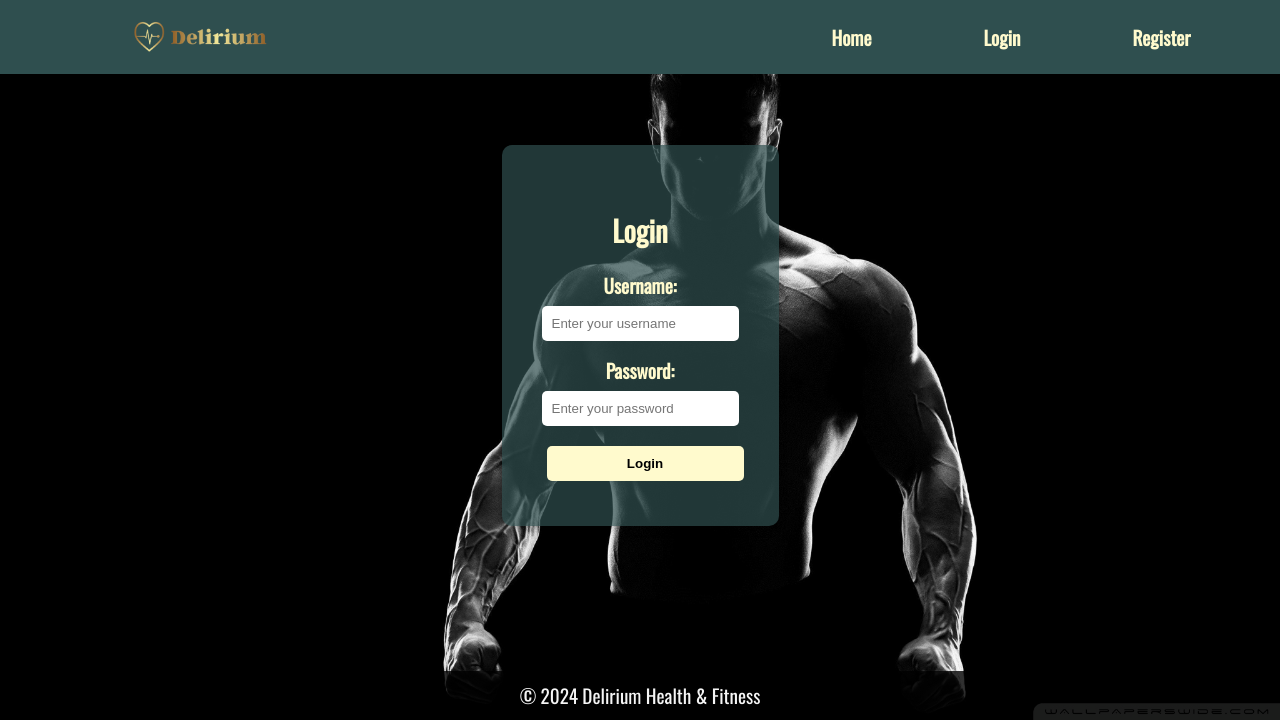
Test case: Login Page › should show error message on incorrect credentials
Step 1. Type "wronguser" into the field with placeholder "Enter your username" → (641, 324), box [542,306,739,341]
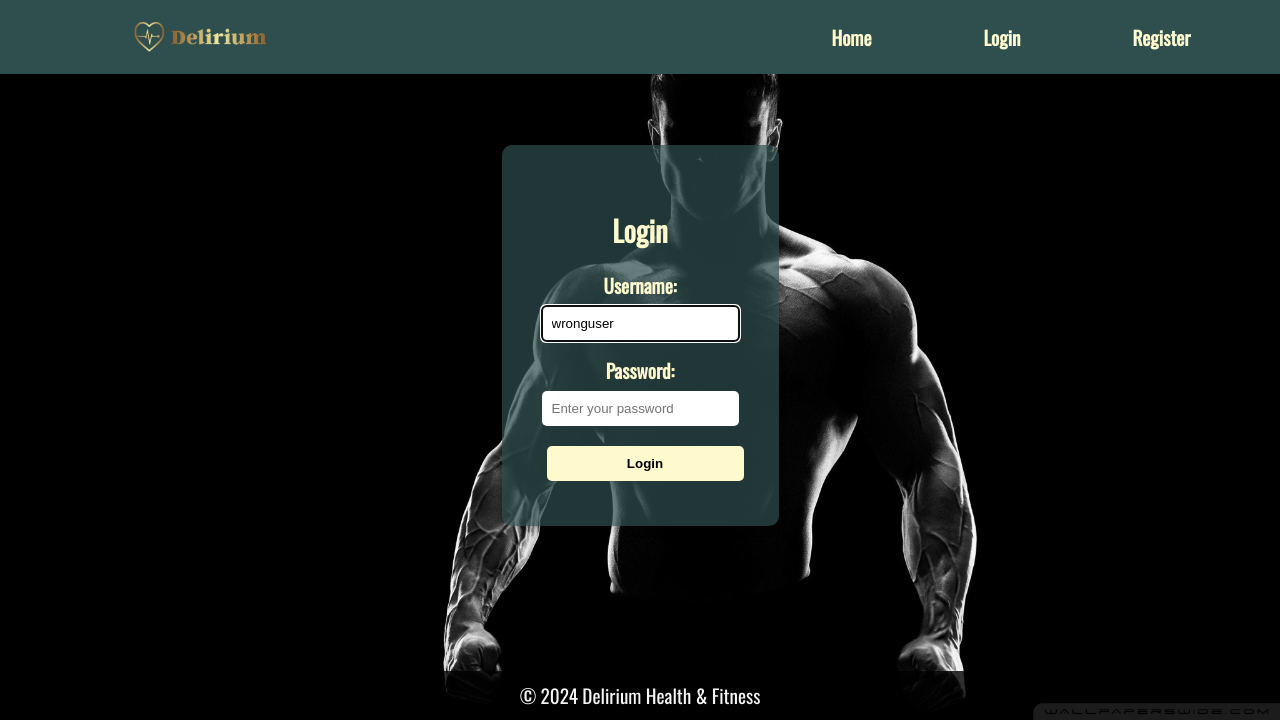
Step 2. Type "wrongpassword" into the password field with placeholder "Enter your password" → (641, 409), box [542,391,739,426]
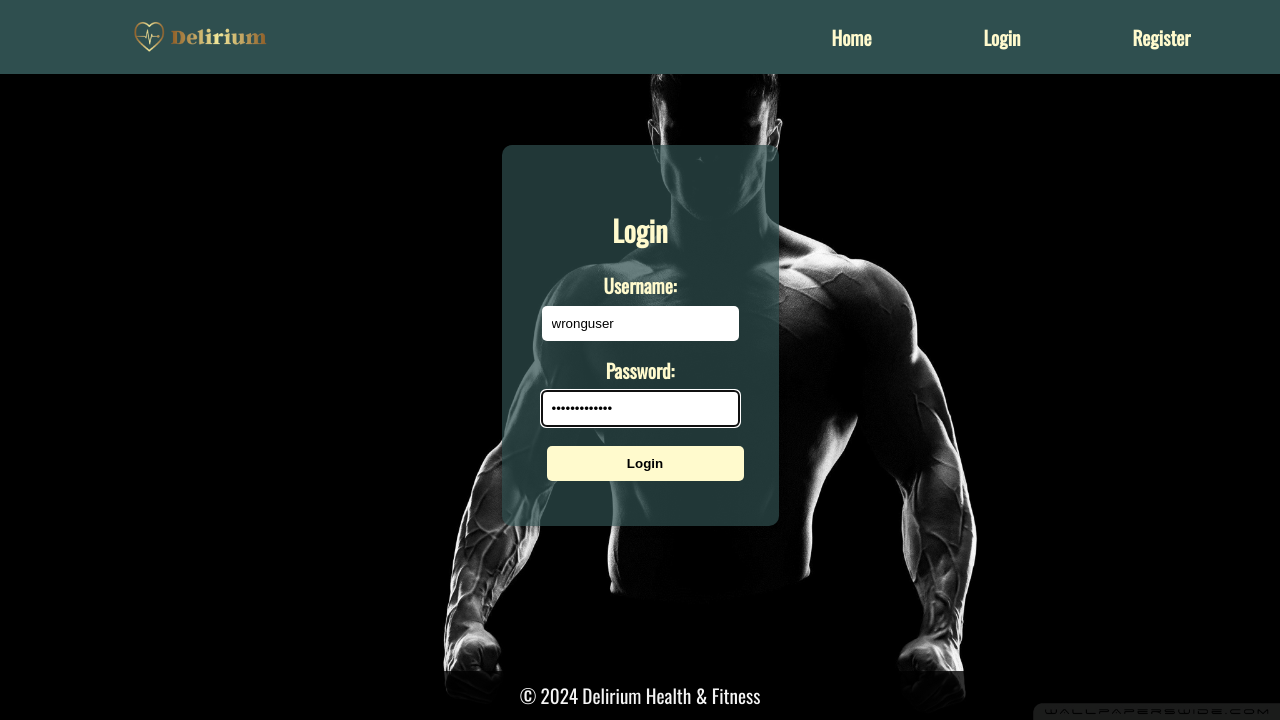
Step 3. Click the submit button → click(646, 464), box [547,446,744,481]
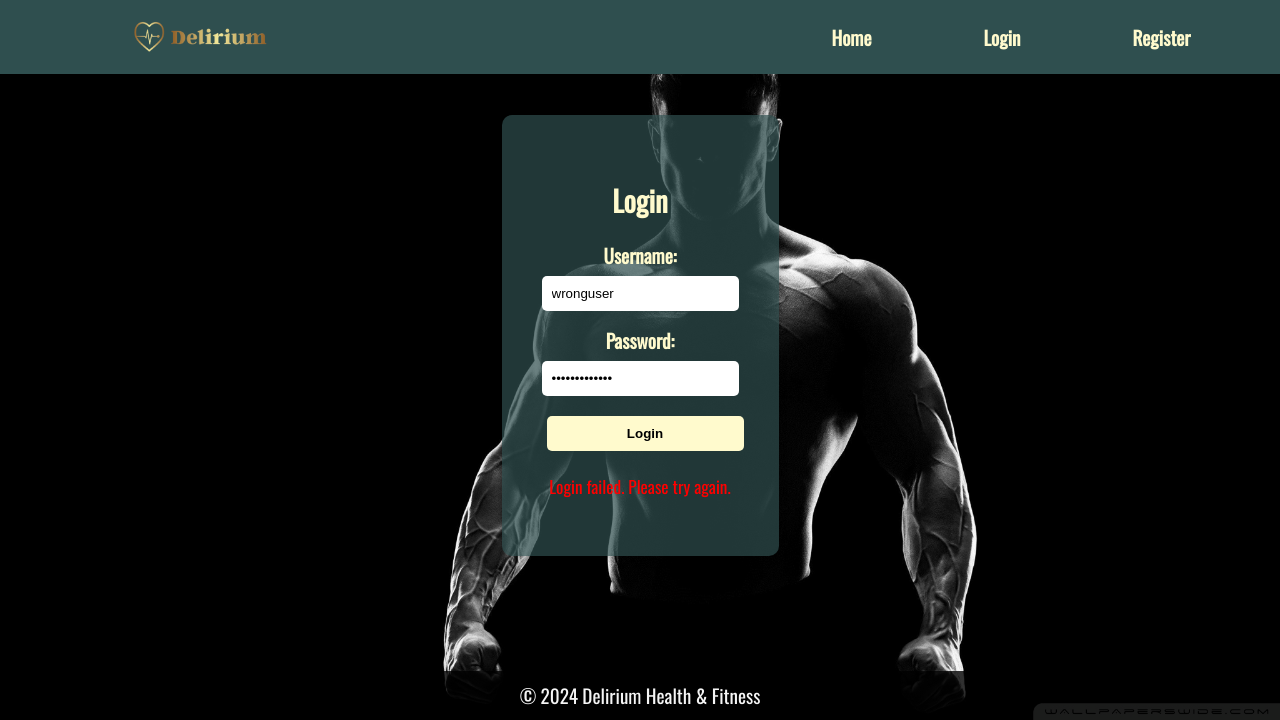
Result: the text "Login failed. Please try again." is shown at [542,473,738,499]
